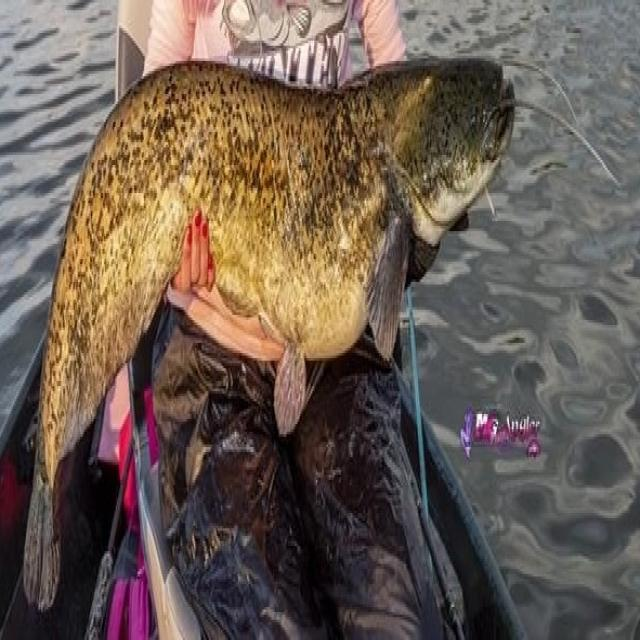Catfish: (32, 56, 526, 620)
